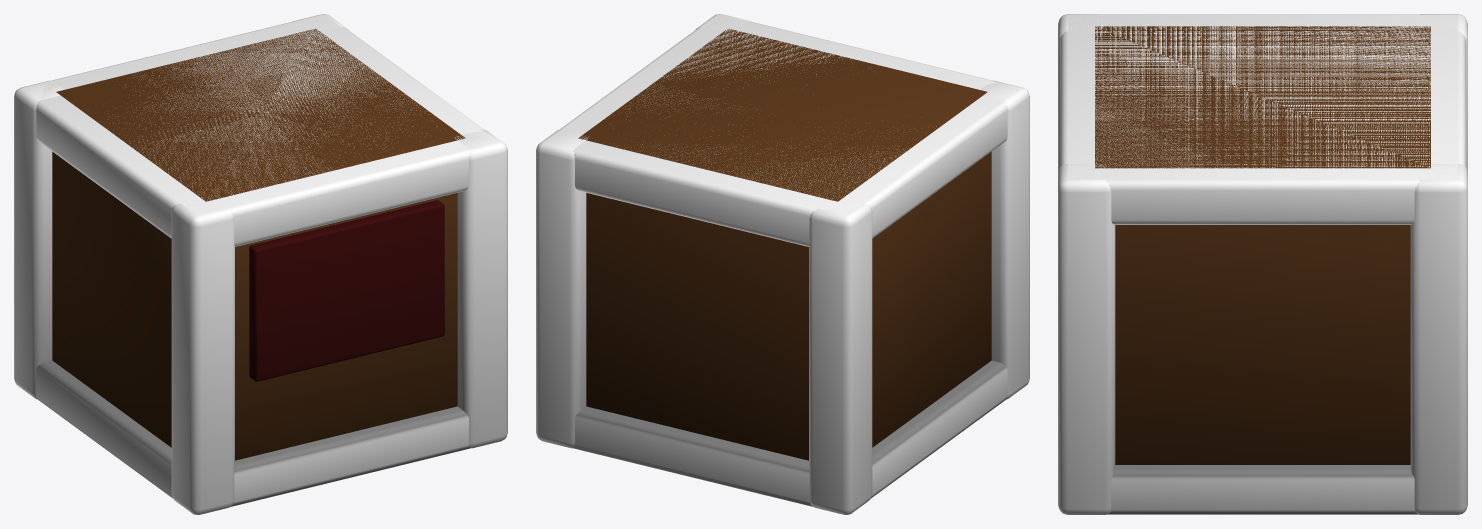
Rendered from storage-box.obj.
3 renders of one model, left to right at view 1: azimuth 30°, elevation 25°; view 2: azimuth 150°, elevation 25°; view 3: azimuth 270°, elevation 25°, orthographic. The views are drawn at different scales.
Parts seen in each view (by area): view 1: storage-box; view 2: storage-box; view 3: storage-box.
Boxes of the visible parts, x1,y1,x2,y2 form: storage-box: (14, 14, 507, 514); storage-box: (536, 14, 1029, 514); storage-box: (1058, 14, 1467, 514).
Bounding box in the file's own units: 0.5 × 0.45 × 0.5.
